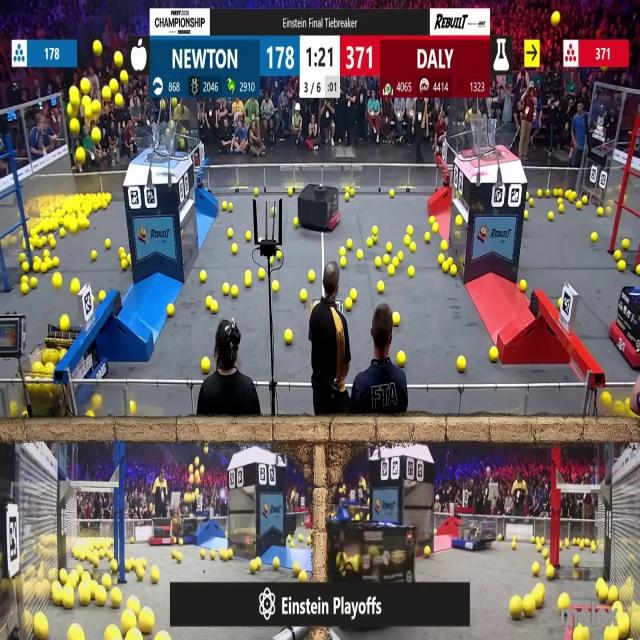ball_airborne: (35, 616, 48, 640), (70, 89, 80, 105), (80, 81, 90, 96), (70, 279, 80, 294), (61, 316, 70, 332), (54, 274, 63, 289), (93, 129, 102, 144), (76, 147, 84, 162), (70, 119, 79, 132), (102, 88, 111, 101), (94, 41, 103, 54), (114, 54, 122, 68), (110, 79, 118, 92), (553, 11, 561, 24), (114, 95, 122, 107), (93, 100, 101, 112), (81, 96, 90, 106), (119, 71, 127, 82), (86, 106, 94, 117), (67, 104, 74, 116), (184, 492, 191, 503), (179, 138, 186, 149), (193, 471, 199, 482), (187, 477, 194, 486), (360, 480, 366, 490), (172, 98, 178, 107), (188, 464, 194, 472), (194, 457, 198, 466), (194, 489, 198, 497), (201, 464, 205, 472), (205, 448, 209, 456)
ball_ground: (140, 610, 155, 636), (511, 597, 524, 619), (123, 613, 137, 631), (533, 586, 544, 608), (524, 599, 536, 618), (110, 590, 122, 608), (96, 590, 107, 608), (69, 626, 83, 640), (79, 588, 91, 604), (573, 628, 588, 640), (596, 582, 605, 602), (559, 594, 570, 610), (64, 594, 74, 610), (129, 598, 141, 611), (106, 628, 119, 640), (608, 588, 618, 603), (54, 591, 64, 605), (202, 357, 211, 372), (150, 567, 159, 582), (490, 348, 499, 362), (457, 356, 466, 370), (602, 392, 611, 406), (9, 404, 17, 419), (128, 630, 140, 640), (545, 566, 553, 580), (130, 403, 138, 417), (103, 574, 112, 586), (392, 313, 400, 326), (94, 395, 102, 408), (397, 352, 404, 366), (285, 332, 292, 346), (136, 568, 144, 580), (110, 560, 118, 572), (70, 221, 78, 233), (158, 632, 170, 640), (168, 305, 175, 318), (250, 560, 257, 573), (346, 300, 354, 311), (242, 278, 250, 289), (298, 570, 306, 581), (274, 558, 281, 570), (211, 302, 218, 314), (378, 281, 385, 293), (232, 285, 239, 297), (532, 563, 539, 575), (299, 289, 306, 301), (61, 570, 68, 582), (22, 284, 30, 294), (622, 240, 630, 250), (619, 262, 626, 273), (350, 289, 357, 300), (99, 290, 106, 301), (424, 545, 431, 556), (123, 560, 130, 571), (130, 559, 137, 570), (520, 280, 526, 292), (80, 219, 88, 228), (30, 278, 37, 288), (409, 268, 416, 278), (222, 284, 229, 294), (616, 250, 623, 260), (309, 272, 316, 282), (23, 264, 30, 274), (54, 256, 61, 266), (292, 217, 299, 227), (569, 190, 576, 200), (220, 550, 227, 560), (201, 272, 207, 283), (258, 270, 264, 281), (273, 281, 279, 292), (451, 266, 457, 277), (356, 249, 362, 260), (120, 261, 126, 272), (443, 265, 450, 274), (403, 237, 410, 246), (220, 202, 227, 211), (141, 558, 148, 567), (233, 244, 239, 254), (443, 241, 449, 251), (592, 233, 598, 243), (384, 254, 390, 264), (341, 257, 347, 267), (246, 232, 252, 242), (376, 257, 382, 267), (49, 239, 55, 249), (411, 242, 417, 252), (388, 267, 394, 277), (34, 264, 40, 274), (456, 216, 462, 226), (572, 556, 578, 566), (392, 257, 398, 267), (226, 550, 232, 560), (118, 248, 124, 258), (293, 562, 299, 572), (40, 238, 46, 248), (388, 189, 395, 197), (269, 256, 276, 264), (387, 242, 392, 253), (207, 295, 212, 306), (105, 240, 111, 249), (408, 225, 414, 234), (366, 238, 372, 247), (524, 211, 530, 220), (41, 265, 47, 274), (18, 253, 24, 262), (226, 203, 232, 212), (348, 240, 353, 250), (93, 250, 98, 260), (425, 233, 430, 243), (542, 550, 547, 560), (177, 554, 182, 564), (253, 188, 260, 195), (341, 248, 347, 256), (546, 212, 552, 220), (276, 251, 282, 259), (575, 202, 581, 210), (43, 250, 49, 258), (544, 188, 550, 196), (397, 252, 403, 260), (598, 208, 604, 216), (89, 412, 95, 420), (106, 192, 112, 200), (94, 558, 100, 566), (227, 230, 232, 239), (371, 225, 376, 234), (61, 230, 66, 239), (440, 254, 445, 263), (432, 223, 437, 232), (428, 216, 434, 223), (554, 188, 560, 195), (34, 255, 40, 262), (269, 209, 275, 216), (636, 266, 640, 276), (529, 200, 534, 208), (202, 550, 206, 560), (211, 552, 216, 560), (21, 276, 26, 284), (584, 197, 589, 205), (449, 256, 454, 264), (536, 542, 541, 550), (298, 534, 303, 542), (351, 188, 356, 196), (103, 202, 108, 210), (560, 205, 564, 214), (178, 539, 184, 545), (345, 193, 350, 200), (530, 536, 535, 543), (537, 189, 541, 197), (513, 542, 517, 550), (288, 188, 292, 196), (592, 544, 596, 552), (525, 191, 530, 197), (498, 534, 502, 541), (433, 528, 437, 535), (131, 536, 135, 543), (579, 542, 583, 549), (560, 542, 564, 549), (290, 541, 294, 547), (514, 536, 518, 542)
goal: (465, 121, 521, 160), (130, 129, 187, 160)
robot_blue: (356, 527, 416, 598), (452, 514, 491, 552), (172, 516, 198, 544)
robot_red: (613, 286, 640, 369), (299, 186, 340, 232), (149, 518, 175, 544)
